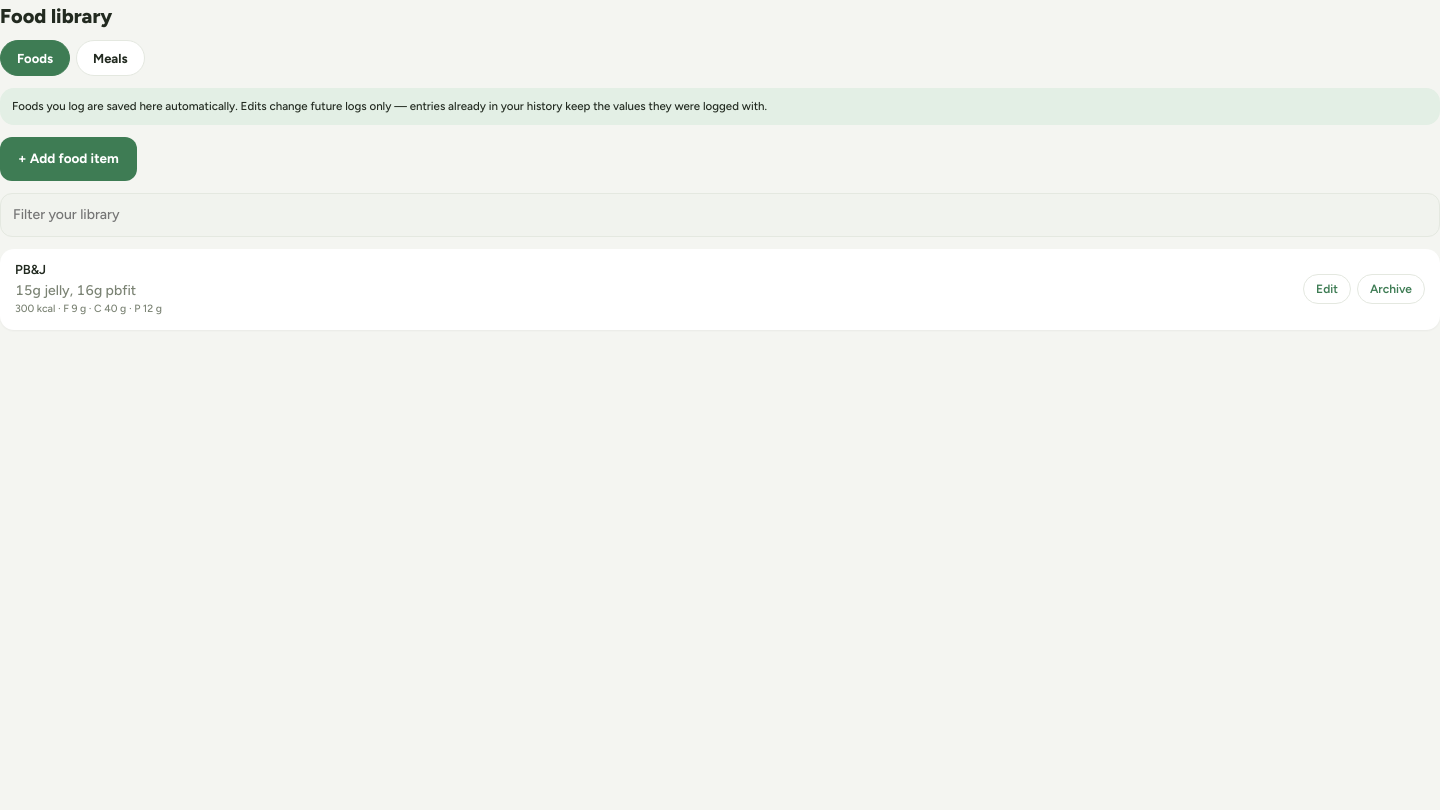
FoodsScreen save as new food › does not offer the fork until the name diverges
Click the button "Edit". click: (1327, 289)
box: [1303,274,1351,304]
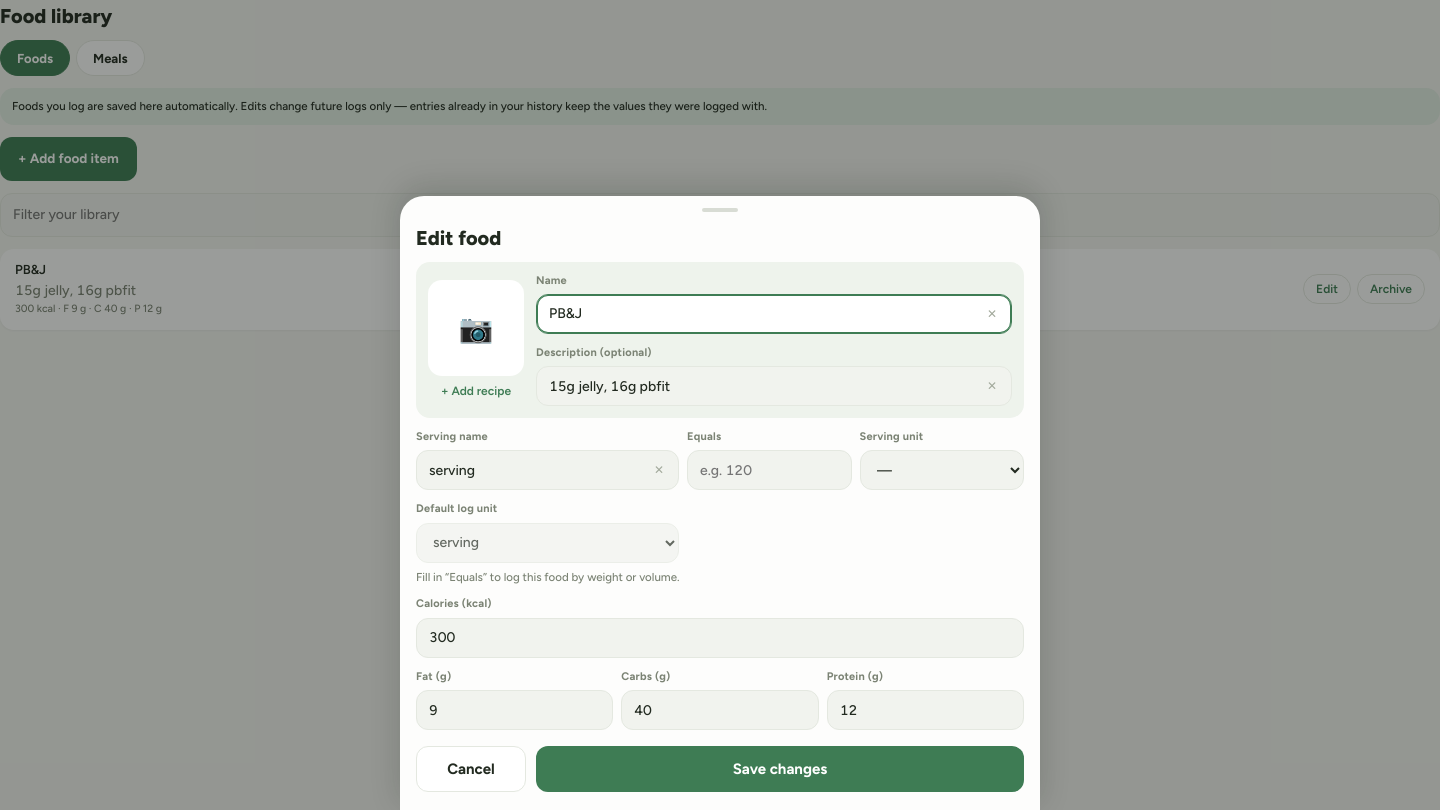
Check: the button "Save changes" is shown, box [536,746,1024,792]
